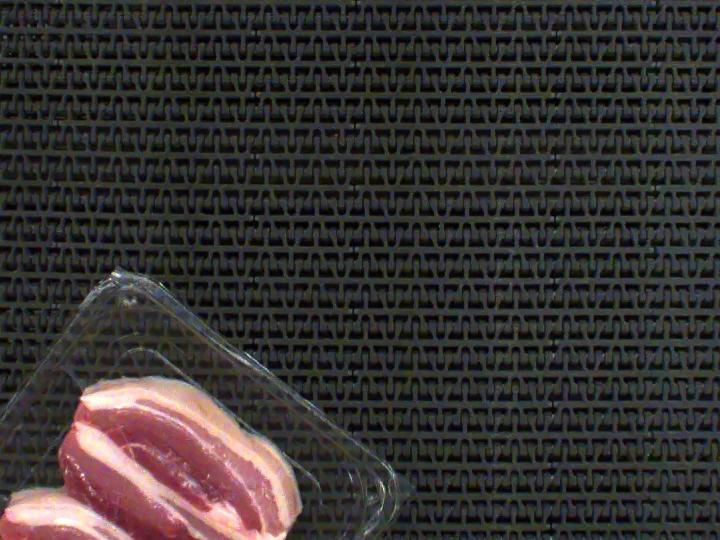packaging-error: (56, 358, 89, 391)
